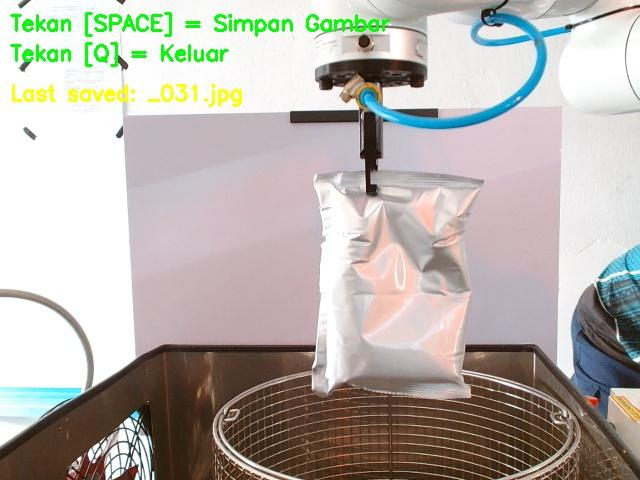retort-pouch: (308, 170, 483, 401)
